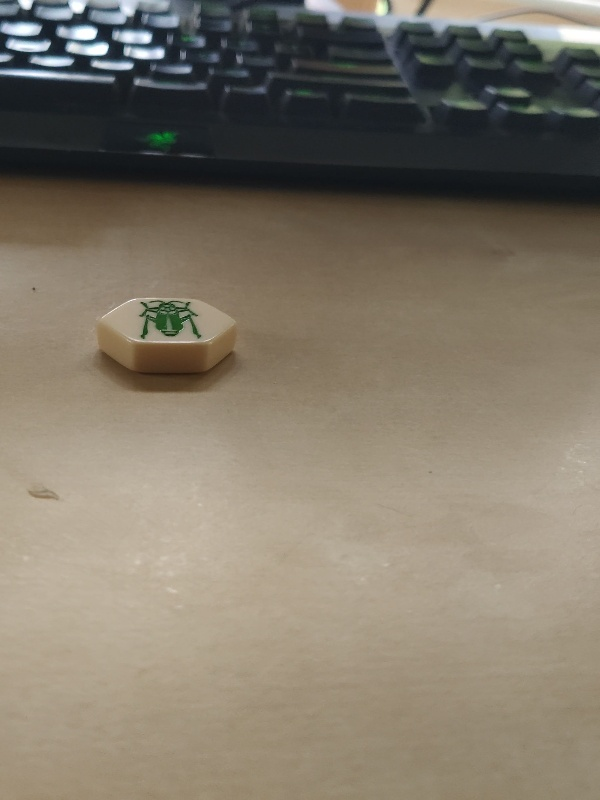white_grasshopper: (101, 296, 239, 374)
